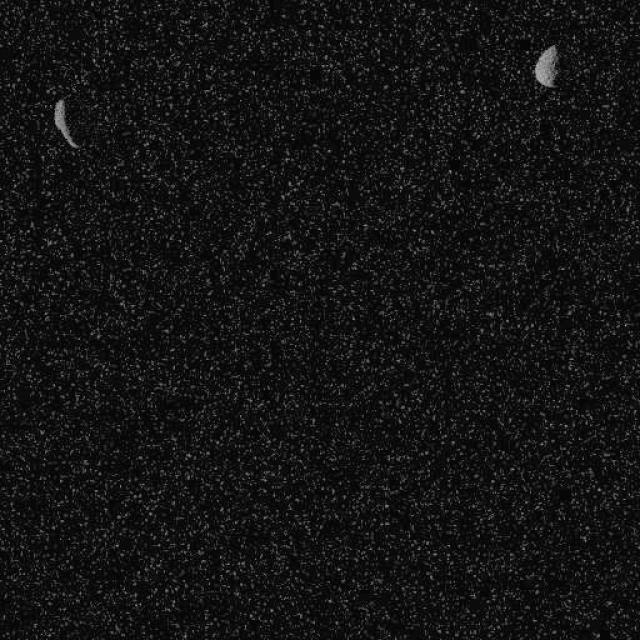D2: (51, 96, 81, 150), (532, 44, 560, 88)
